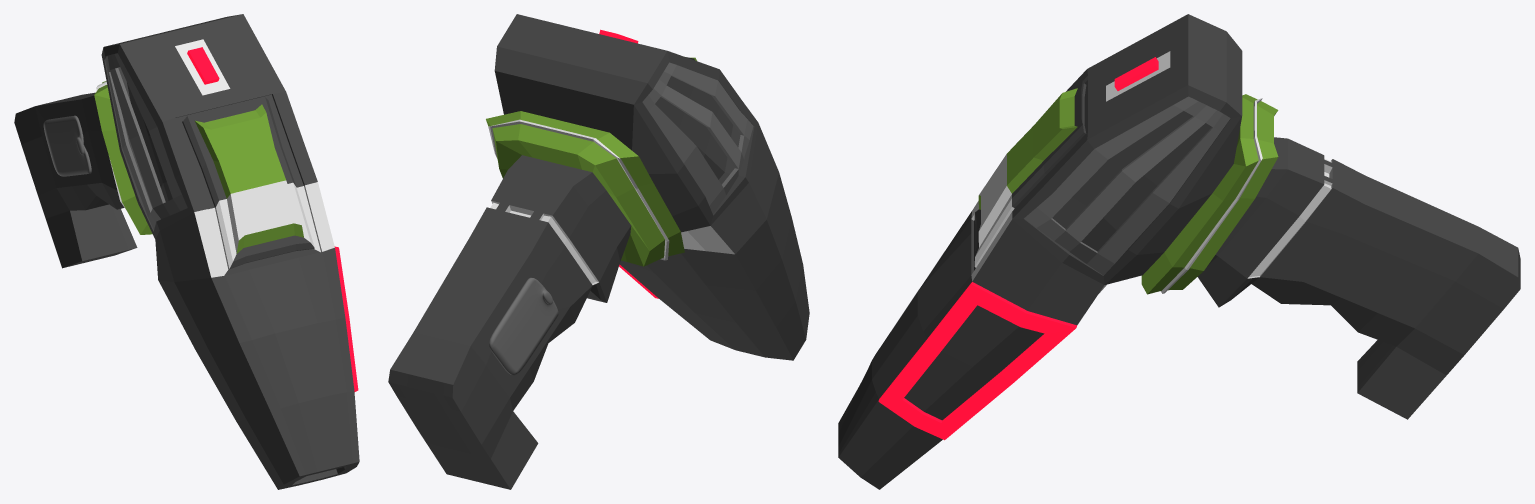
Rendered from Tekli_Silah_Equip_Animation.fbx.
The picture shows the model from 3 angles, left to right: view 1: azimuth 30°, elevation 25°; view 2: azimuth 150°, elevation 25°; view 3: azimuth 270°, elevation 25°; orthographic projection. The views are drawn at different scales.
Visible parts, largest first — view 1: TekliSilah_kabza, yanlar, pil kapağı; view 2: TekliSilah_kabza, yanlar, pil kapağı; view 3: TekliSilah_kabza, yanlar.
Part boxes in pixels (x1=…): TekliSilah_kabza: x1=14, y1=14, x2=359, y2=489; yanlar: x1=105, y1=53, x2=187, y2=229; pil kapağı: x1=43, y1=115, x2=91, y2=176; TekliSilah_kabza: x1=388, y1=14, x2=809, y2=489; yanlar: x1=642, y1=62, x2=753, y2=213; pil kapağı: x1=489, y1=277, x2=558, y2=375; TekliSilah_kabza: x1=838, y1=14, x2=1520, y2=489; yanlar: x1=1024, y1=96, x2=1230, y2=275.
Bounding box in the file's own units: 205 × 455 × 665.
